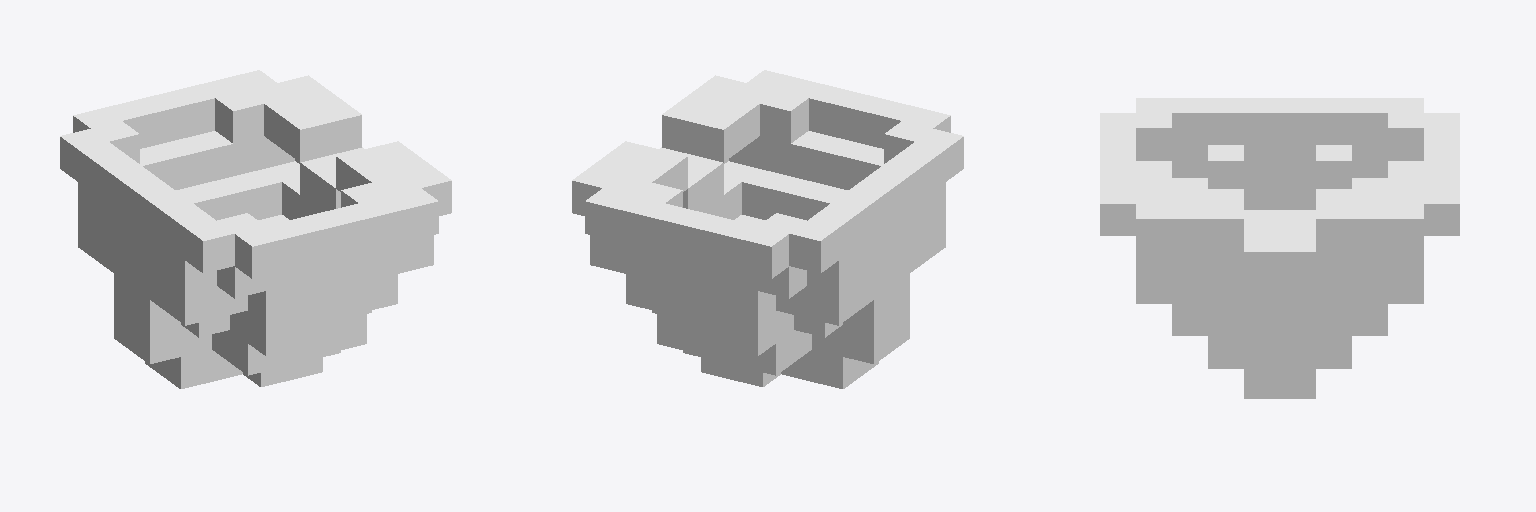
The model's file is Trevor-1.obj.
The picture shows the model from 3 angles: view 1: azimuth 30°, elevation 25°; view 2: azimuth 150°, elevation 25°; view 3: azimuth 270°, elevation 25°; orthographic projection.
Visible parts, largest first — view 1: object 1; view 2: object 1; view 3: object 1.
Boxes of the visible parts, x1,y1,x2,y2 form: object 1: [60, 70, 451, 388]; object 1: [572, 70, 963, 388]; object 1: [1100, 98, 1459, 398].
Size of the model in its own units: 0.8 by 0.6 by 1.